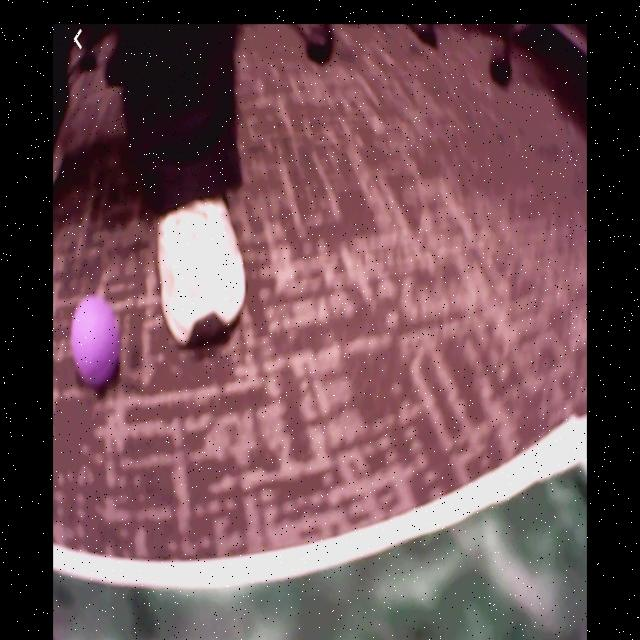ball: (71, 297, 121, 389)
